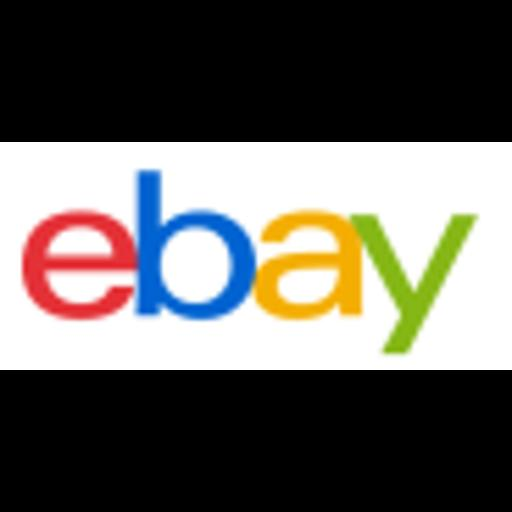eBay: (0, 142, 512, 370)
